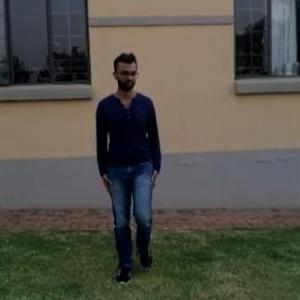follow: (89, 37, 164, 284)
